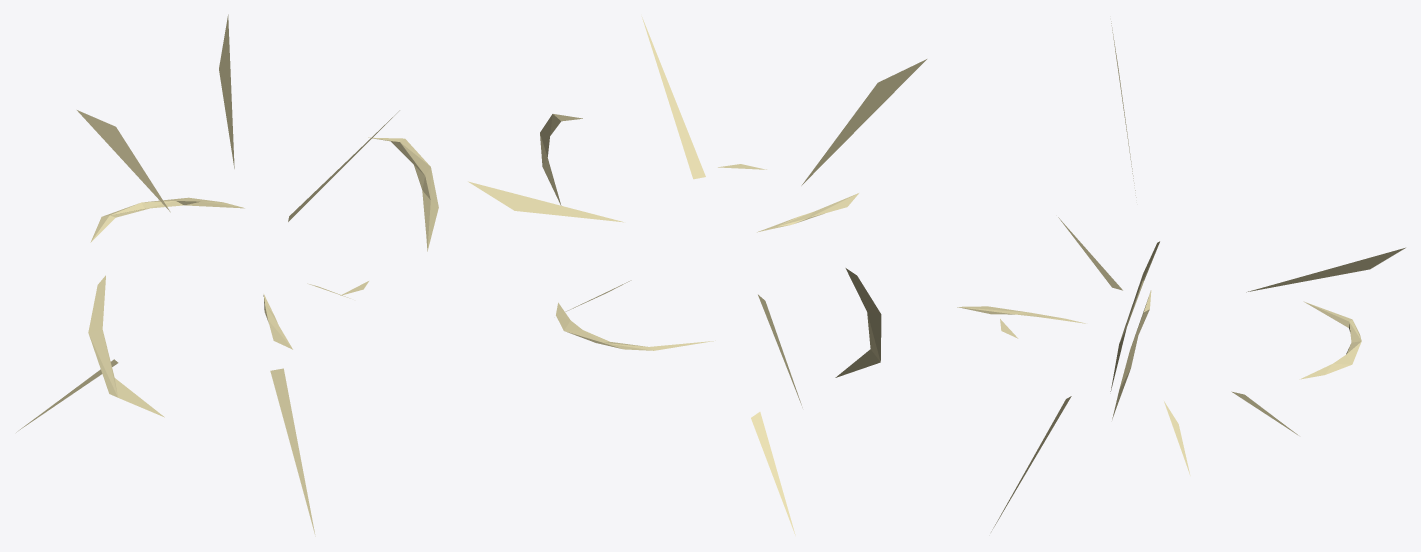
Rendered from FX_Shockwave_Spike.fbx.
3 renders of one model, left to right at view 1: azimuth 30°, elevation 25°; view 2: azimuth 150°, elevation 25°; view 3: azimuth 270°, elevation 25°, orthographic. The views are drawn at different scales.
Parts seen in each view (by area): view 1: DustShockwave; view 2: DustShockwave; view 3: DustShockwave.
Boxes of the visible parts, left/top/right/bottom form: DustShockwave: left=16, top=14, right=438, bottom=536; DustShockwave: left=468, top=16, right=926, bottom=535; DustShockwave: left=957, top=21, right=1405, bottom=531.
Size of the model in its own units: 93919 by 104623 by 98291.
